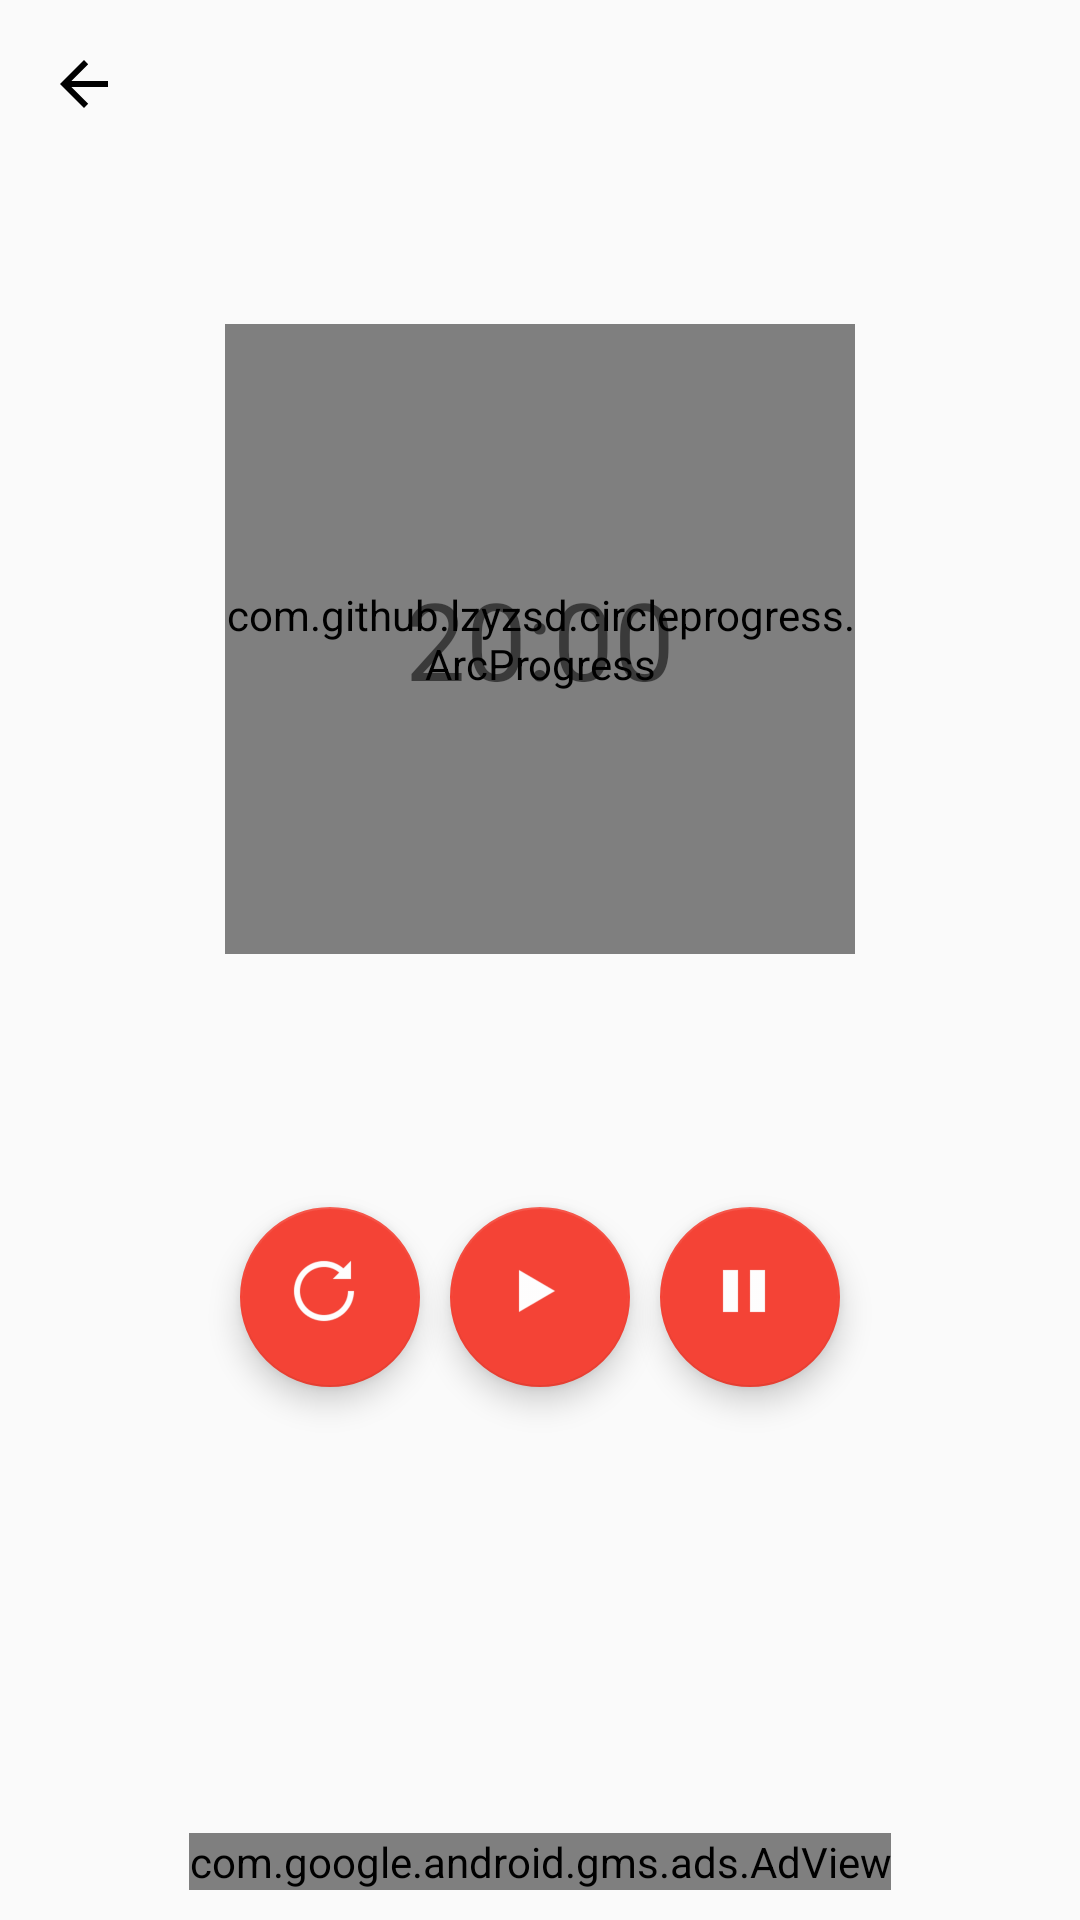

Icon bounding boxes for this 1080×1920 phone screenshot, format (left=x1, top=y1, right=x2, bottom=y2):
pause: (left=660, top=1207, right=840, bottom=1387)
play: (left=450, top=1207, right=630, bottom=1387)
reset: (left=240, top=1207, right=420, bottom=1387)
